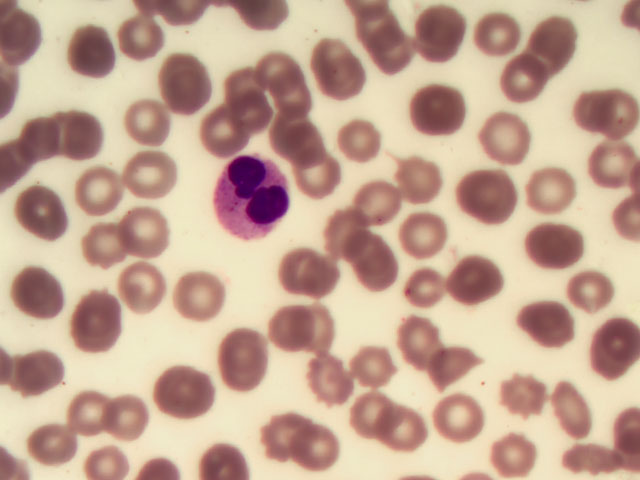RBC: (55, 23, 119, 83), (105, 13, 169, 73), (155, 51, 219, 111), (114, 87, 178, 147), (114, 149, 178, 209), (70, 161, 134, 221), (68, 103, 132, 163), (9, 114, 73, 174), (15, 186, 79, 246), (63, 214, 127, 274), (107, 208, 171, 268), (112, 262, 176, 322), (67, 296, 131, 356), (11, 263, 75, 323), (175, 264, 239, 324), (210, 330, 274, 390), (158, 361, 222, 421), (104, 388, 168, 448), (56, 385, 120, 445), (18, 417, 82, 477), (72, 420, 136, 480), (248, 397, 312, 457), (297, 415, 361, 475), (294, 344, 358, 404), (300, 297, 364, 357), (262, 300, 326, 360), (299, 248, 363, 308), (265, 243, 329, 303), (307, 192, 371, 252), (336, 226, 400, 286), (345, 164, 409, 224), (293, 157, 357, 217), (273, 123, 337, 183), (255, 89, 319, 149), (251, 46, 315, 106), (222, 64, 286, 124), (202, 103, 266, 163), (296, 54, 360, 114), (305, 28, 369, 88), (417, 85, 481, 145), (364, 36, 428, 96), (412, 8, 476, 68), (464, 7, 528, 67), (495, 50, 559, 110), (522, 14, 586, 74), (478, 105, 542, 165), (460, 160, 524, 220), (397, 151, 461, 211), (393, 215, 457, 275), (391, 251, 455, 311), (446, 255, 510, 315), (384, 305, 448, 365), (355, 336, 419, 396), (333, 391, 397, 451), (376, 398, 440, 458), (422, 392, 486, 452), (437, 348, 501, 408), (486, 368, 550, 428), (530, 375, 594, 435), (496, 420, 560, 480), (576, 318, 640, 378), (524, 292, 588, 352), (559, 264, 623, 324), (521, 213, 585, 273), (522, 159, 586, 219), (576, 135, 640, 195), (576, 82, 640, 142)
WBC: (205, 150, 294, 237)
